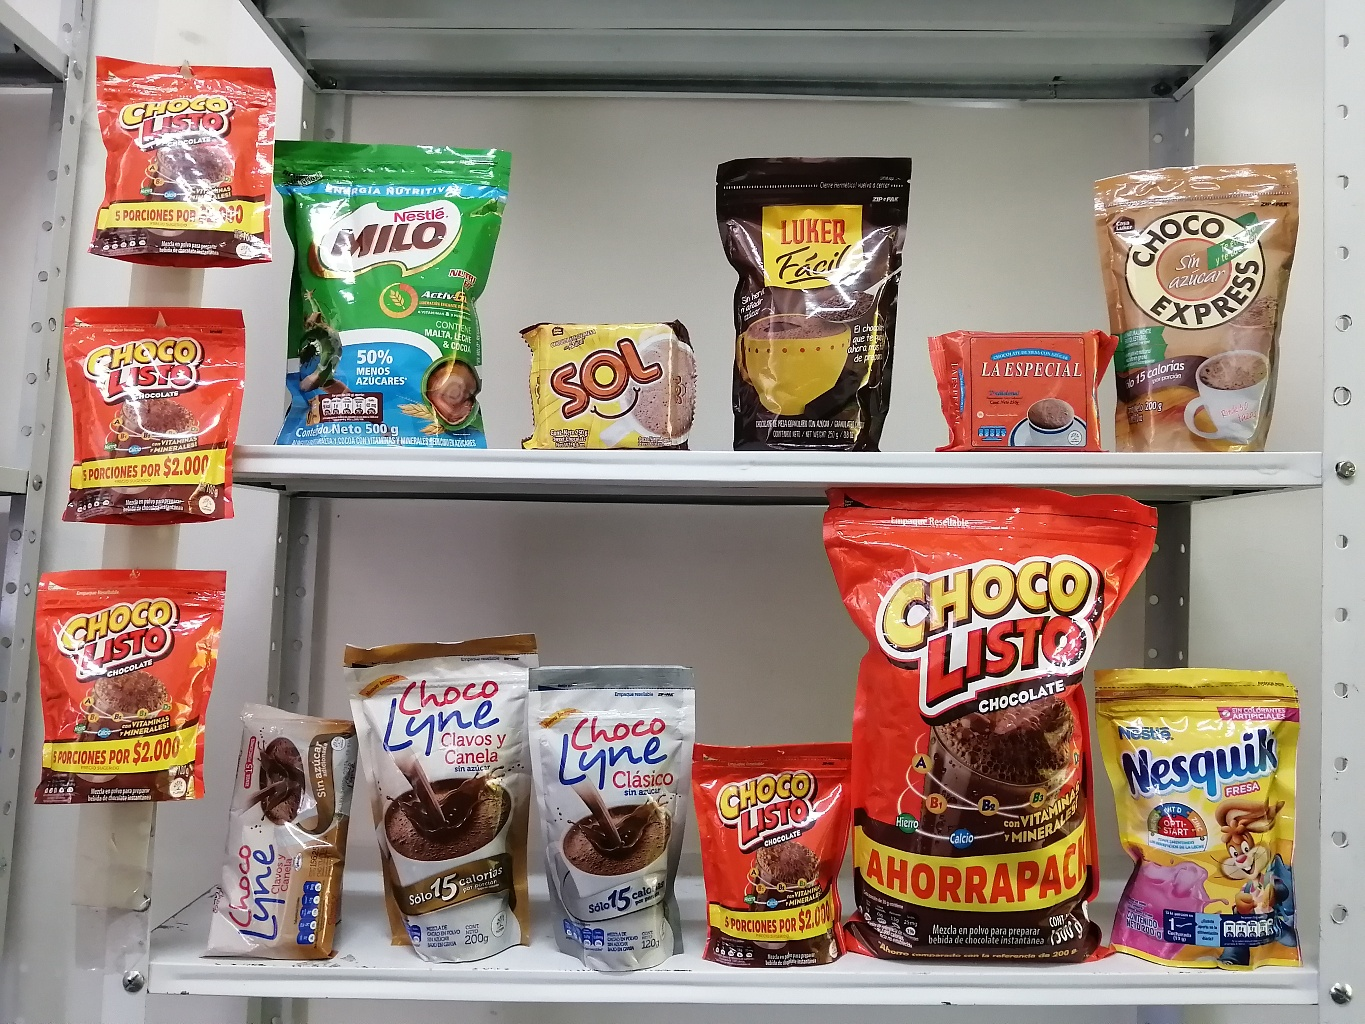COL0170103DYP1,500: (804, 484, 1158, 973)
COL0170205DYP50000: (285, 132, 521, 451)
COL0170305DYP20000: (1100, 652, 1311, 970)
